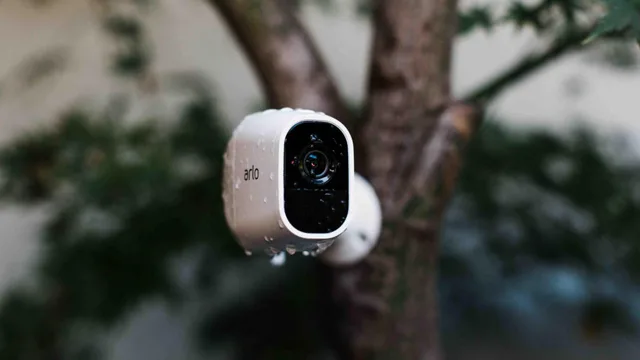Nest Cam: (214, 101, 391, 274)
